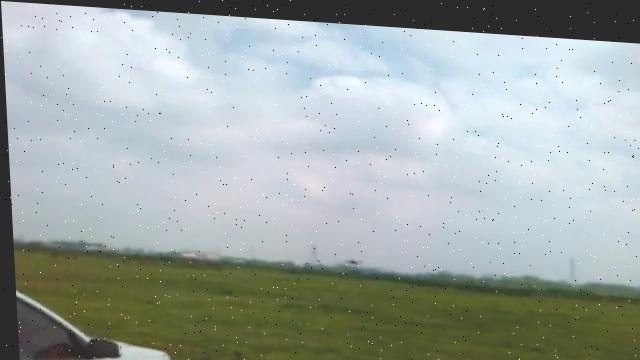drone: (339, 249, 360, 260)
